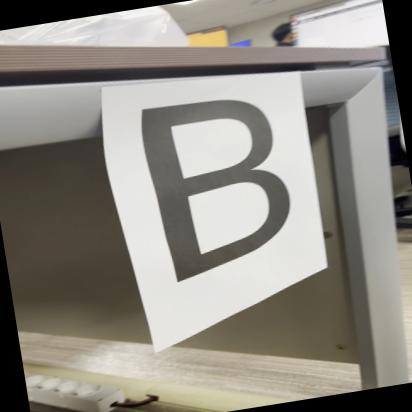seat: (68, 37, 396, 300)
